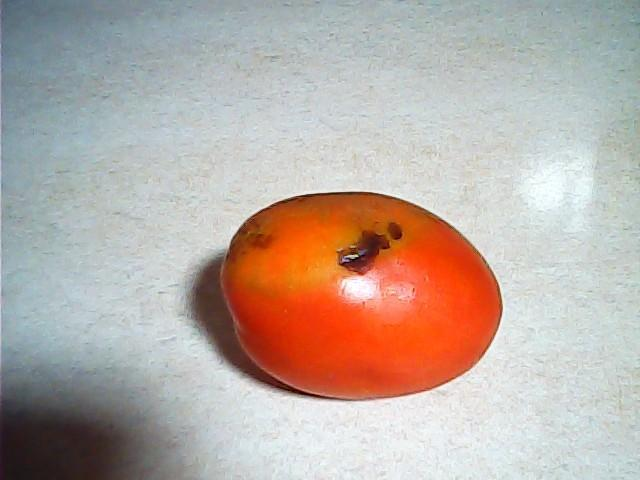defectuoso: (219, 180, 505, 404)
